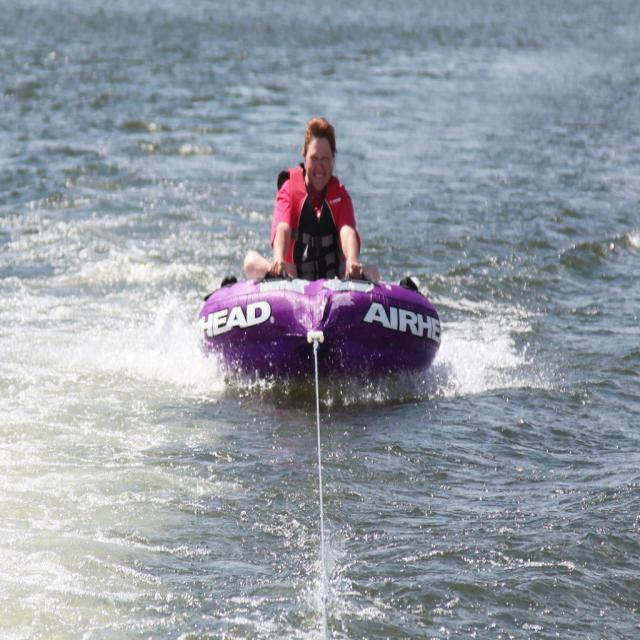Boat: (188, 239, 446, 385)
